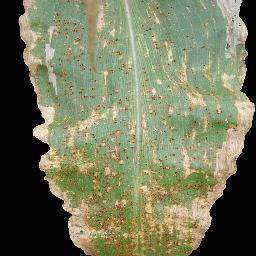Corn_Common_Rust: (116, 0, 256, 255), (18, 0, 117, 255)
